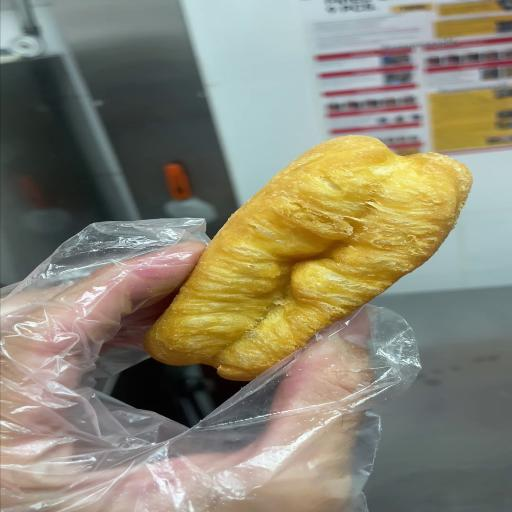brand_golden_good: (146, 135, 471, 380)
